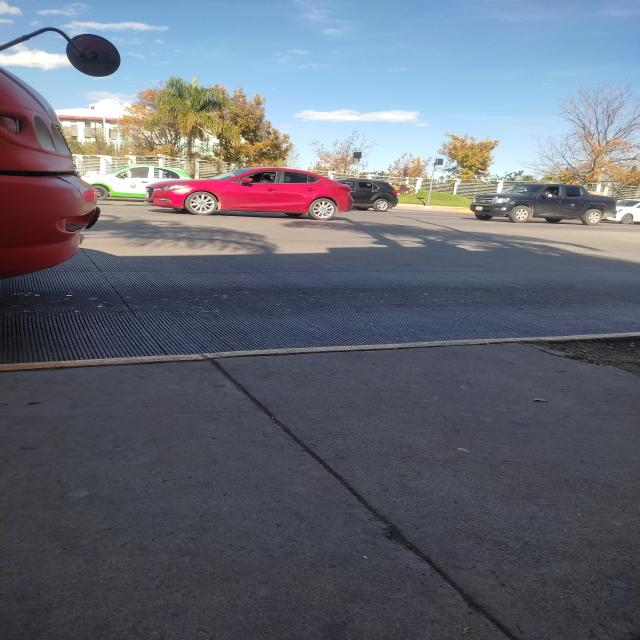Auto: (140, 149, 365, 228), (473, 168, 615, 236), (69, 154, 194, 208), (323, 176, 403, 217)
Autobus: (0, 2, 110, 284)
